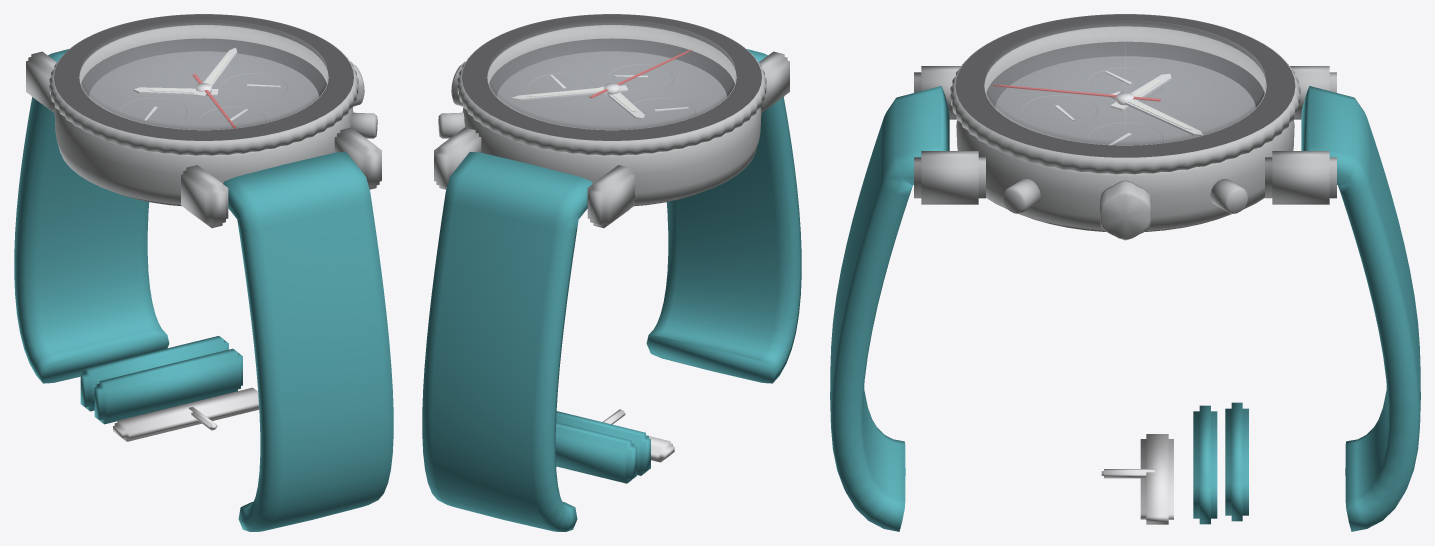
File: watch-lite.glb
3 views of the same model, side by side, from view 1: azimuth 30°, elevation 25°; view 2: azimuth 150°, elevation 25°; view 3: azimuth 270°, elevation 25° (orthographic). The views are drawn at different scales.
Visible parts, largest first — view 1: strap_bottom, strap_top, crystal, dial, case_middle, bezel_top, bezel, strap_keeper_0, rehaut, buckle_frame, strap_keeper_1, lug_lb (+3 smaller); view 2: strap_top, strap_bottom, crystal, dial, case_middle, bezel_top, bezel, rehaut, strap_keeper_1, lug_lt, lug_rt, strap_keeper_0 (+4 smaller); view 3: crystal, strap_top, strap_bottom, dial, case_middle, bezel_top, bezel, rehaut, lug_rb, lug_rt, buckle_frame, strap_keeper_0 (+6 smaller).
Boxes of the visible parts, x1,y1,x2,y2 form: strap_bottom: [223, 151, 393, 531]; strap_top: [14, 49, 169, 383]; crystal: [80, 20, 327, 129]; dial: [89, 51, 318, 129]; case_middle: [54, 38, 353, 204]; bezel_top: [54, 14, 353, 140]; bezel: [49, 14, 358, 155]; strap_keeper_0: [94, 348, 242, 424]; rehaut: [81, 38, 326, 96]; buckle_frame: [113, 387, 259, 441]; strap_keeper_1: [80, 336, 228, 411]; lug_lb: [181, 165, 228, 228]; strap_top: [422, 151, 592, 531]; strap_bottom: [646, 49, 801, 383]; crystal: [488, 20, 735, 129]; dial: [497, 51, 726, 129]; case_middle: [462, 38, 761, 204]; bezel_top: [462, 14, 761, 140]; bezel: [457, 14, 766, 155]; rehaut: [489, 38, 734, 96]; strap_keeper_1: [555, 422, 636, 483]; lug_lt: [587, 165, 634, 228]; lug_rt: [434, 127, 481, 189]; strap_keeper_0: [556, 411, 650, 475]; crystal: [985, 20, 1265, 144]; strap_top: [1301, 86, 1420, 531]; strap_bottom: [830, 86, 949, 531]; dial: [995, 56, 1255, 145]; case_middle: [956, 41, 1294, 229]; bezel_top: [955, 14, 1295, 157]; bezel: [950, 14, 1300, 174]; rehaut: [986, 41, 1264, 107]; lug_rb: [914, 151, 985, 204]; lug_rt: [1265, 151, 1336, 204]; buckle_frame: [1140, 434, 1173, 524]; strap_keeper_0: [1193, 405, 1217, 524].
Size of the model in its own units: 0.0466 by 0.0586 by 0.0741.
